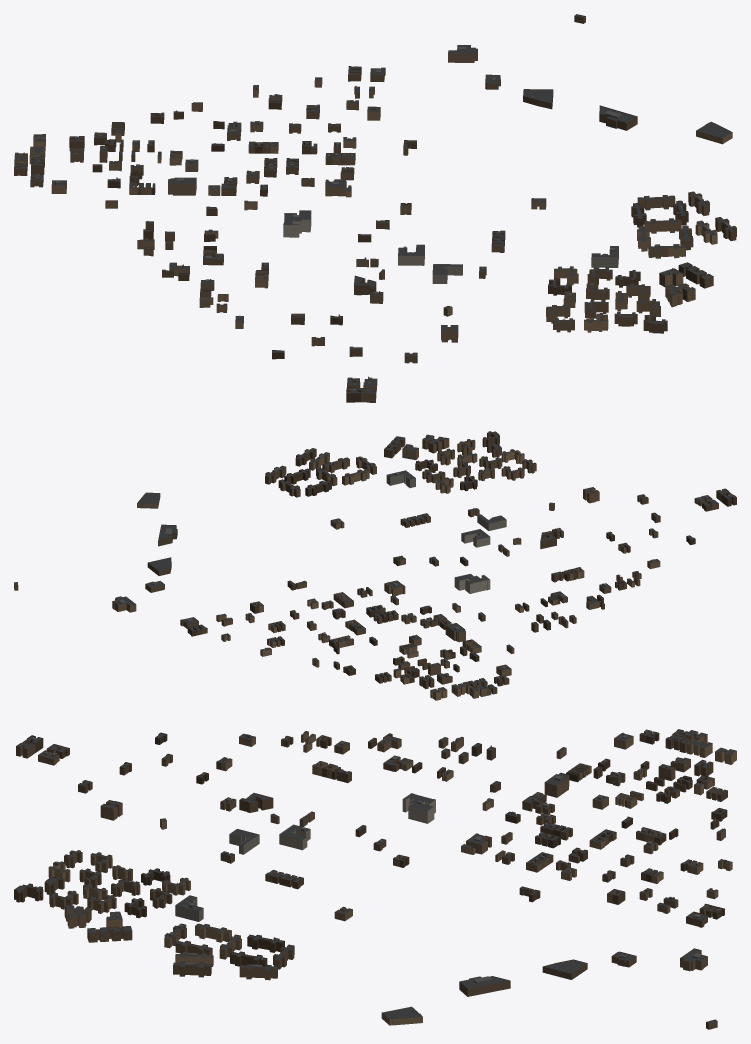
File: manhattan_+03_-02.glb
3 renders of one model, top to bottom at view 1: azimuth 30°, elevation 25°; view 2: azimuth 150°, elevation 25°; view 3: azimuth 270°, elevation 25°, orthographic. The views are drawn at different scales.
Parts seen in each view (by area): view 1: BLD_lowrise_+03_-02, BLD_midrise_+03_-02; view 2: BLD_lowrise_+03_-02, BLD_midrise_+03_-02; view 3: BLD_lowrise_+03_-02, BLD_midrise_+03_-02.
Part boxes in pixels (x1=…): BLD_lowrise_+03_-02: x1=14, y1=14, x2=736, y2=402; BLD_midrise_+03_-02: x1=283, y1=210, x2=311, y2=237; BLD_lowrise_+03_-02: x1=14, y1=431, x2=736, y2=700; BLD_midrise_+03_-02: x1=454, y1=573, x2=490, y2=593; BLD_lowrise_+03_-02: x1=14, y1=729, x2=736, y2=1029; BLD_midrise_+03_-02: x1=402, y1=793, x2=435, y2=823.
Bounding box in the file's own units: 1382 × 32.27 × 1437.
